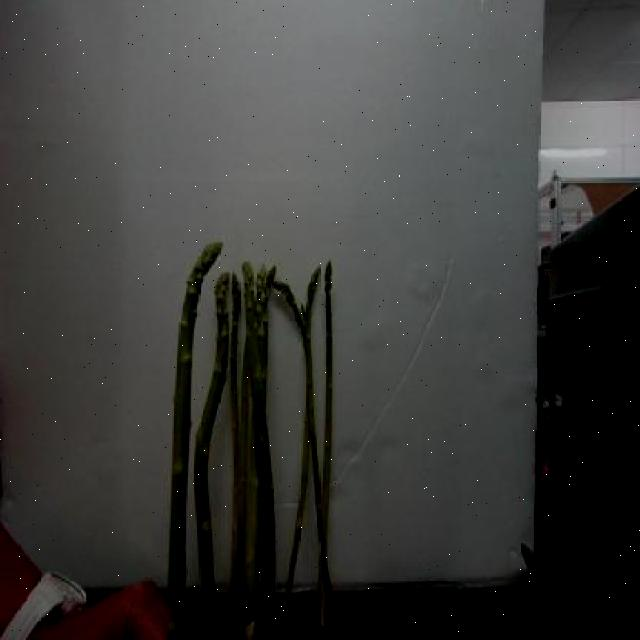aspargus: (167, 242, 222, 597), (316, 264, 335, 640)
